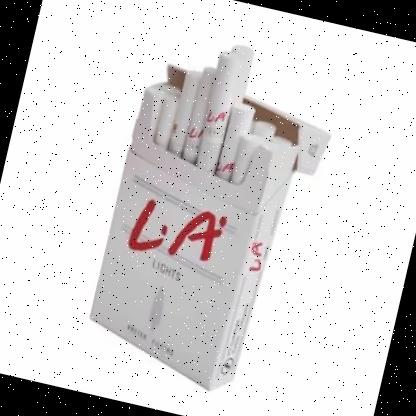bungkus rokok: (71, 13, 355, 406)
